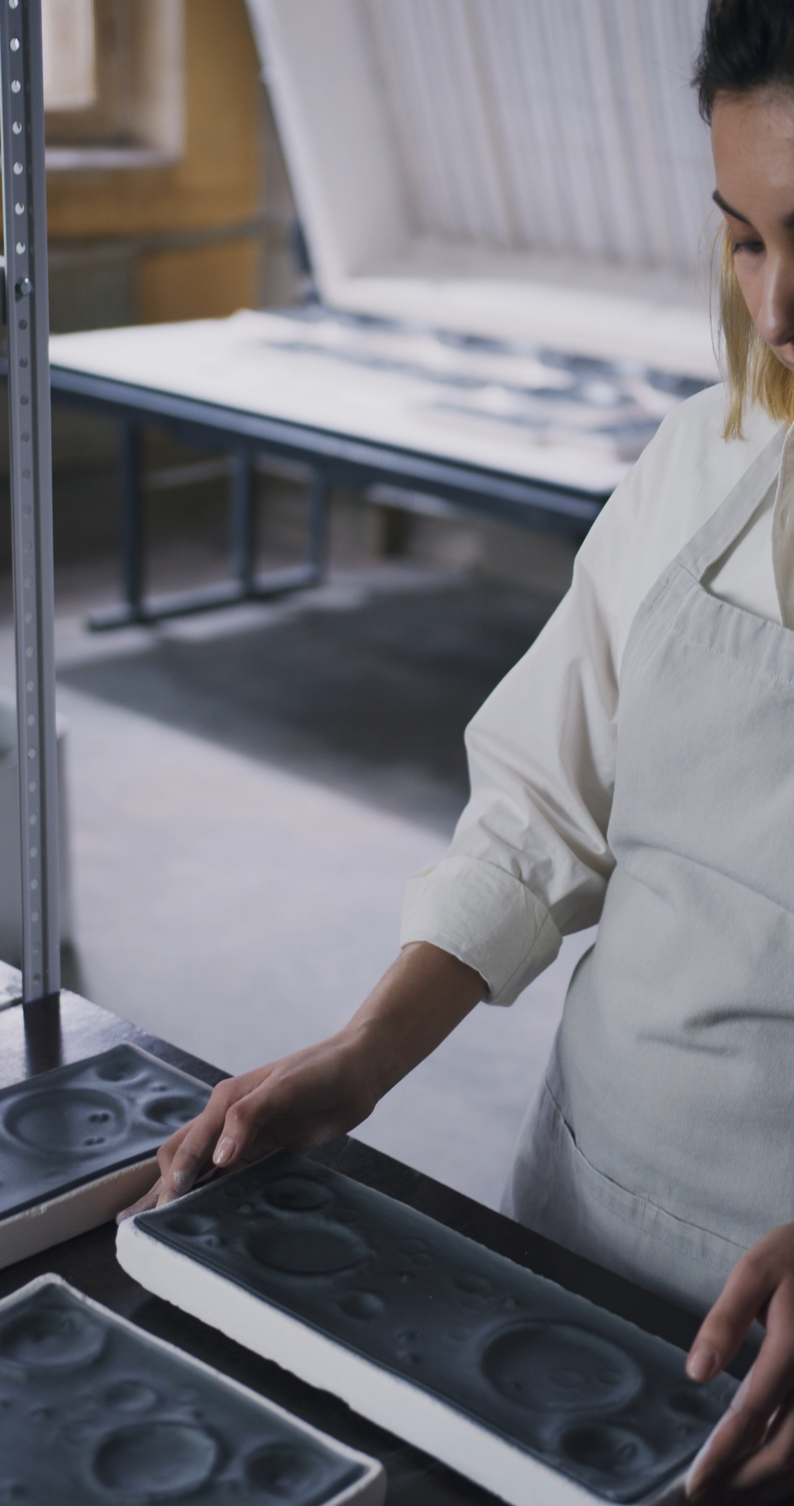No-gloves: (140, 1004, 371, 1220), (625, 1243, 794, 1506)
